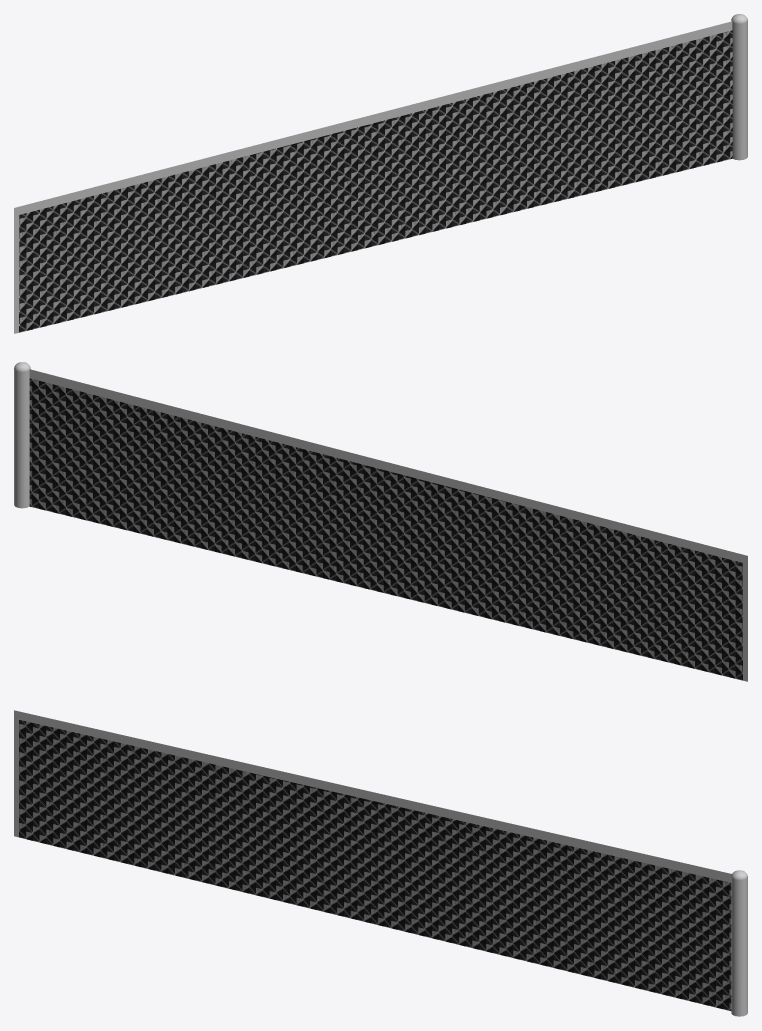
File: Tennis_ground.fbx
The picture shows the model from 3 angles, top to bottom: view 1: azimuth 30°, elevation 25°; view 2: azimuth 150°, elevation 25°; view 3: azimuth 330°, elevation 25°; orthographic projection.
Visible parts, largest first — view 1: Net, Net_rod; view 2: Net, Net_rod; view 3: Net, Net_rod.
Boxes of the visible parts, x1=… form: Net: x1=14, y1=21, x2=732, y2=333; Net_rod: x1=731, y1=14, x2=747, y2=160; Net: x1=29, y1=369, x2=747, y2=681; Net_rod: x1=14, y1=362, x2=30, y2=508; Net: x1=14, y1=710, x2=731, y2=1010; Net_rod: x1=731, y1=870, x2=747, y2=1016.
Size of what is drawn, in the model's own units: 20.11 by 3.73 by 0.4.
